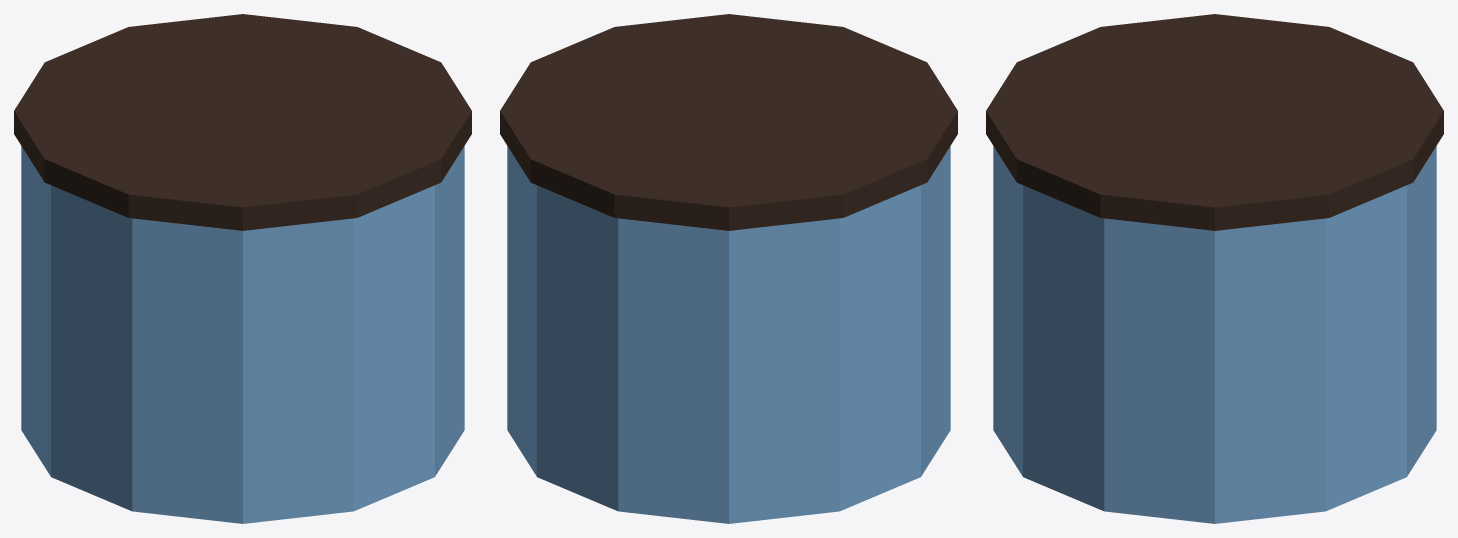
Rendered from prop_ember.fbx.
3 renders of one model, left to right at view 1: azimuth 30°, elevation 25°; view 2: azimuth 150°, elevation 25°; view 3: azimuth 270°, elevation 25°, orthographic.
Visible parts, largest first — view 1: prop_ember; view 2: prop_ember; view 3: prop_ember.
Boxes of the visible parts, <box> form: prop_ember: <box>14,14,471,523</box>; prop_ember: <box>500,14,957,523</box>; prop_ember: <box>986,14,1443,523</box>.
Bounding box in the file's own units: 62 × 47.75 × 62.
1 material, 1 textured.
